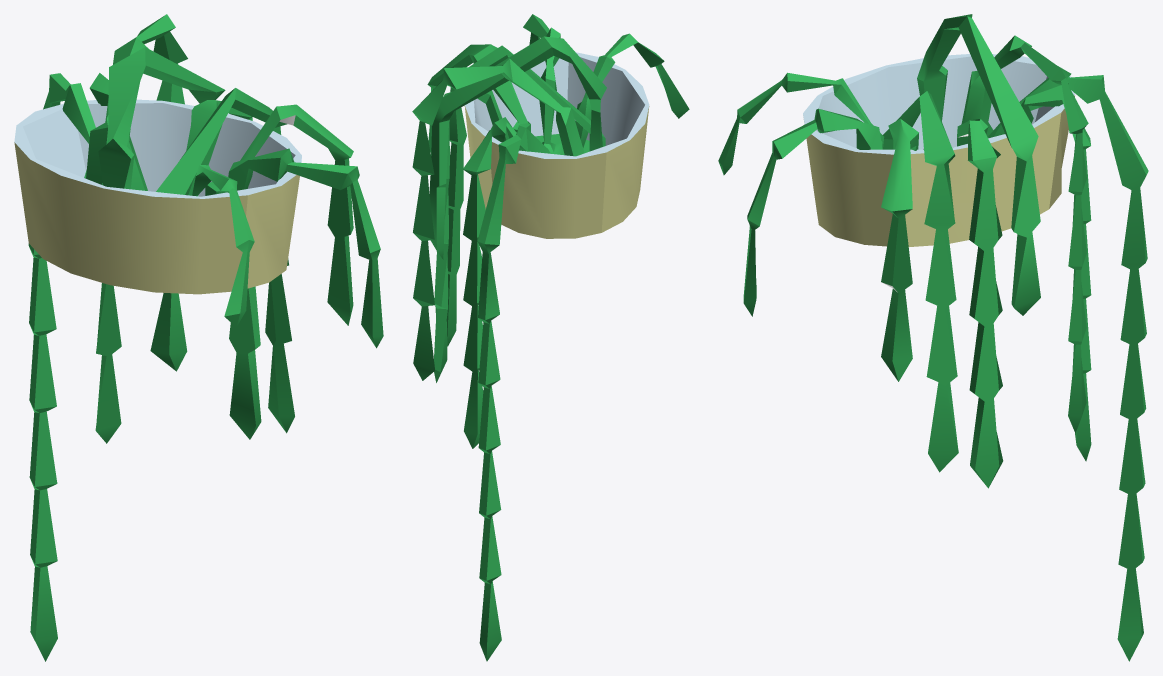
File: PLANT2.glb
3 renders of one model, left to right at view 1: azimuth 30°, elevation 25°; view 2: azimuth 150°, elevation 25°; view 3: azimuth 270°, elevation 25°, orthographic. The views are drawn at different scales.
Parts seen in each view (by area): view 1: PLANT2; view 2: PLANT2; view 3: PLANT2.
Boxes of the visible parts, box(x1,y1,x2,y2) form: PLANT2: box(14, 14, 383, 661); PLANT2: box(412, 14, 689, 661); PLANT2: box(718, 14, 1148, 661).
Size of the model in its own units: 0.9122 by 2.1 by 1.26.
